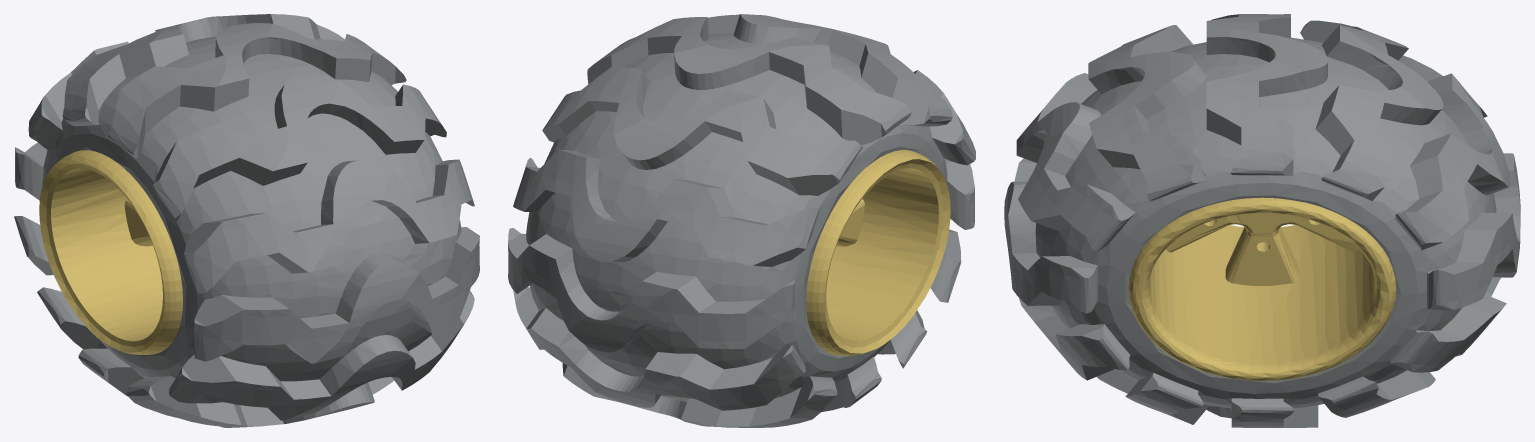
The picture shows the model from 3 angles, left to right: view 1: azimuth 30°, elevation 25°; view 2: azimuth 150°, elevation 25°; view 3: azimuth 270°, elevation 25°; orthographic projection.
Visible parts, largest first — view 1: Mesh_Mesh_head_geo.001_lambert2SG.001; view 2: Mesh_Mesh_head_geo.001_lambert2SG.001; view 3: Mesh_Mesh_head_geo.001_lambert2SG.001.
Part boxes in pixels (x1,y1,x2,y2): Mesh_Mesh_head_geo.001_lambert2SG.001: (14,14,479,427); Mesh_Mesh_head_geo.001_lambert2SG.001: (508,14,975,427); Mesh_Mesh_head_geo.001_lambert2SG.001: (1004,14,1520,427).
Size of the model in its own units: 7.96 by 9 by 12.
